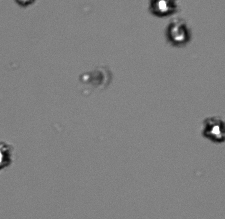Dead Cell: (87, 66, 112, 88)
Living Cell: (166, 19, 192, 44), (204, 116, 223, 142), (149, 1, 179, 17), (1, 141, 12, 170)
